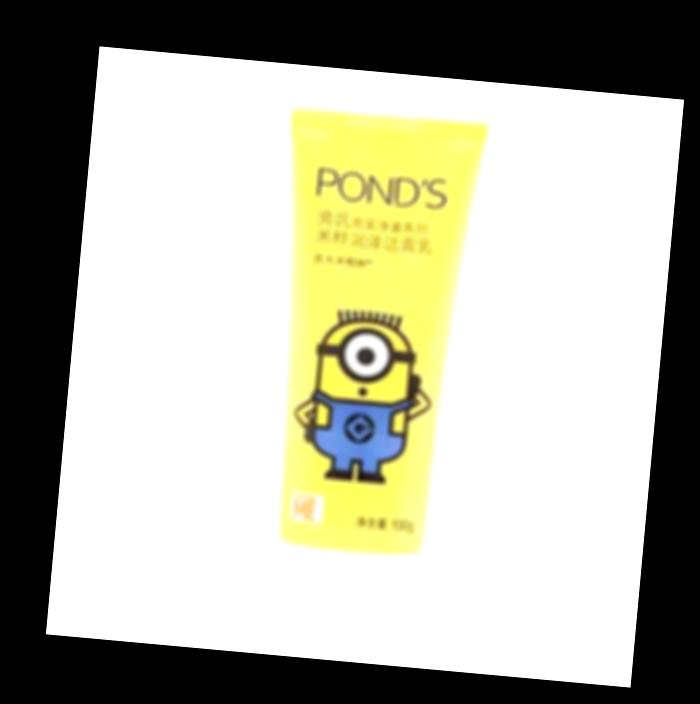cosmetic: (239, 107, 493, 646)
